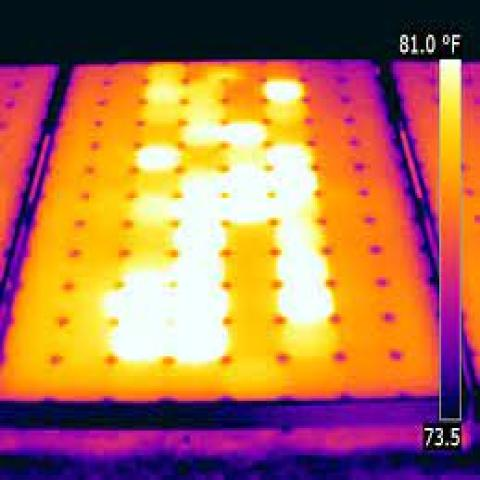fault: (265, 141, 334, 324), (178, 170, 230, 368), (104, 260, 182, 366), (139, 60, 182, 144), (228, 144, 269, 228), (182, 64, 241, 119), (180, 119, 267, 146), (134, 134, 182, 176), (132, 190, 180, 228), (262, 77, 310, 106)
